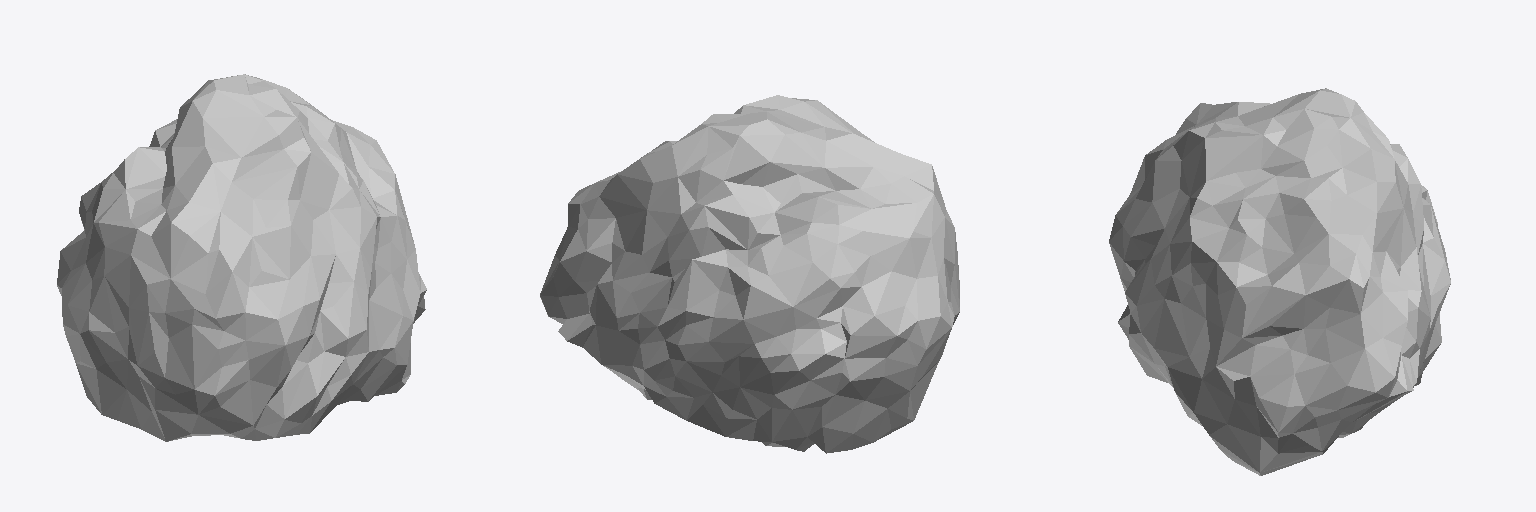
Rendered from rock.obj.
The picture shows the model from 3 angles: view 1: azimuth 30°, elevation 25°; view 2: azimuth 150°, elevation 25°; view 3: azimuth 270°, elevation 25°; orthographic projection.
Parts seen in each view (by area): view 1: Rock7_Rock7_MAT_0; view 2: Rock7_Rock7_MAT_0; view 3: Rock7_Rock7_MAT_0.
Boxes of the visible parts, box(x1,y1,x2,y2) form: Rock7_Rock7_MAT_0: box(57, 74, 426, 441); Rock7_Rock7_MAT_0: box(540, 95, 959, 453); Rock7_Rock7_MAT_0: box(1109, 88, 1450, 475).
Size of the model in its own units: 1.05 by 0.8655 by 0.8607.